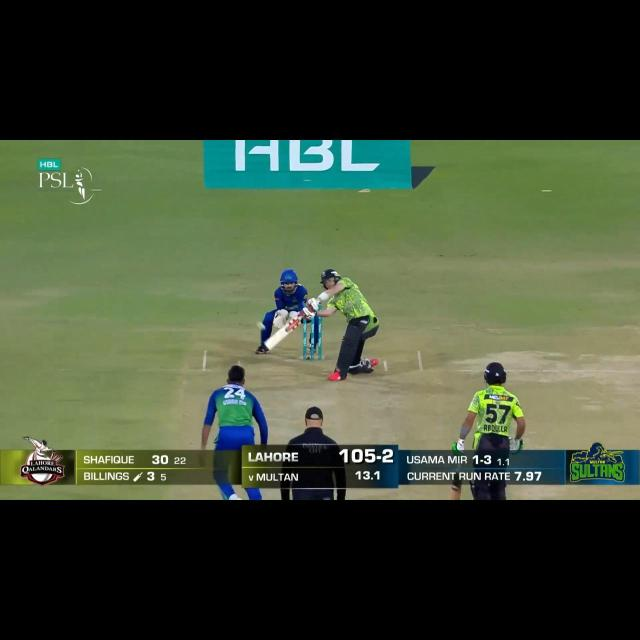bat: (258, 312, 309, 354)
toe: (256, 338, 274, 352)
